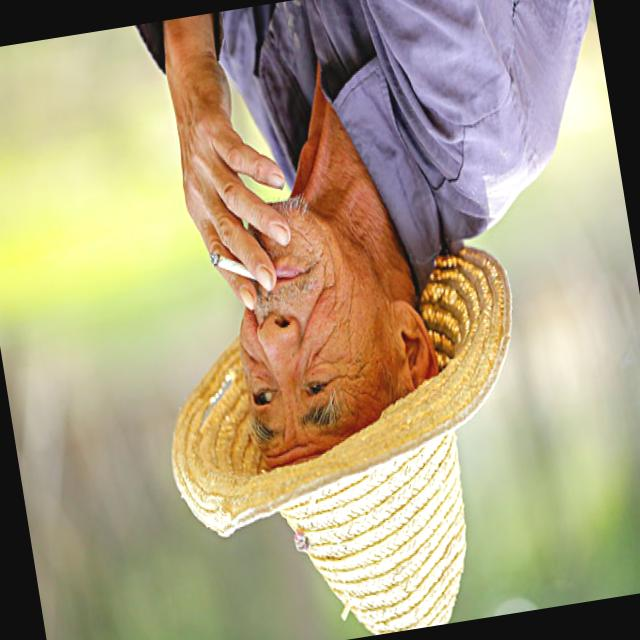cigarette: (203, 238, 269, 298)
